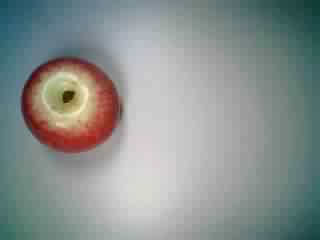apple: (18, 56, 125, 160)
